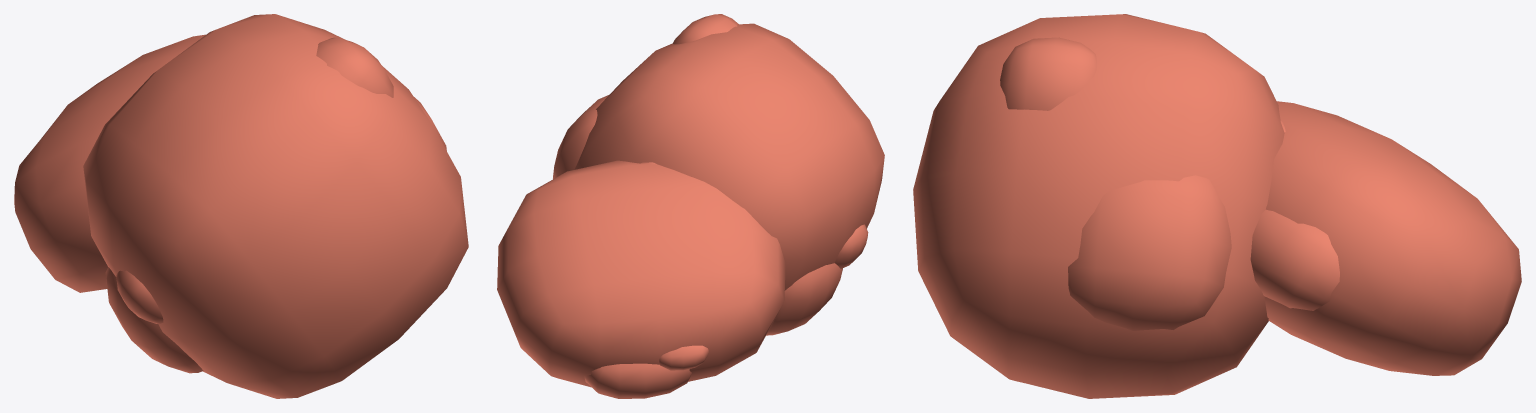
Rendered from MSH_Guts_02.fbx.
3 renders of one model, left to right at view 1: azimuth 30°, elevation 25°; view 2: azimuth 150°, elevation 25°; view 3: azimuth 270°, elevation 25°, orthographic. The views are drawn at different scales.
Parts seen in each view (by area): view 1: MSH_Guts_02; view 2: MSH_Guts_02; view 3: MSH_Guts_02.
Part boxes in pixels (x1=…): MSH_Guts_02: x1=14, y1=14, x2=468, y2=398; MSH_Guts_02: x1=497, y1=14, x2=884, y2=398; MSH_Guts_02: x1=913, y1=14, x2=1521, y2=398.
Size of the model in its own units: 363 by 348 by 523.
